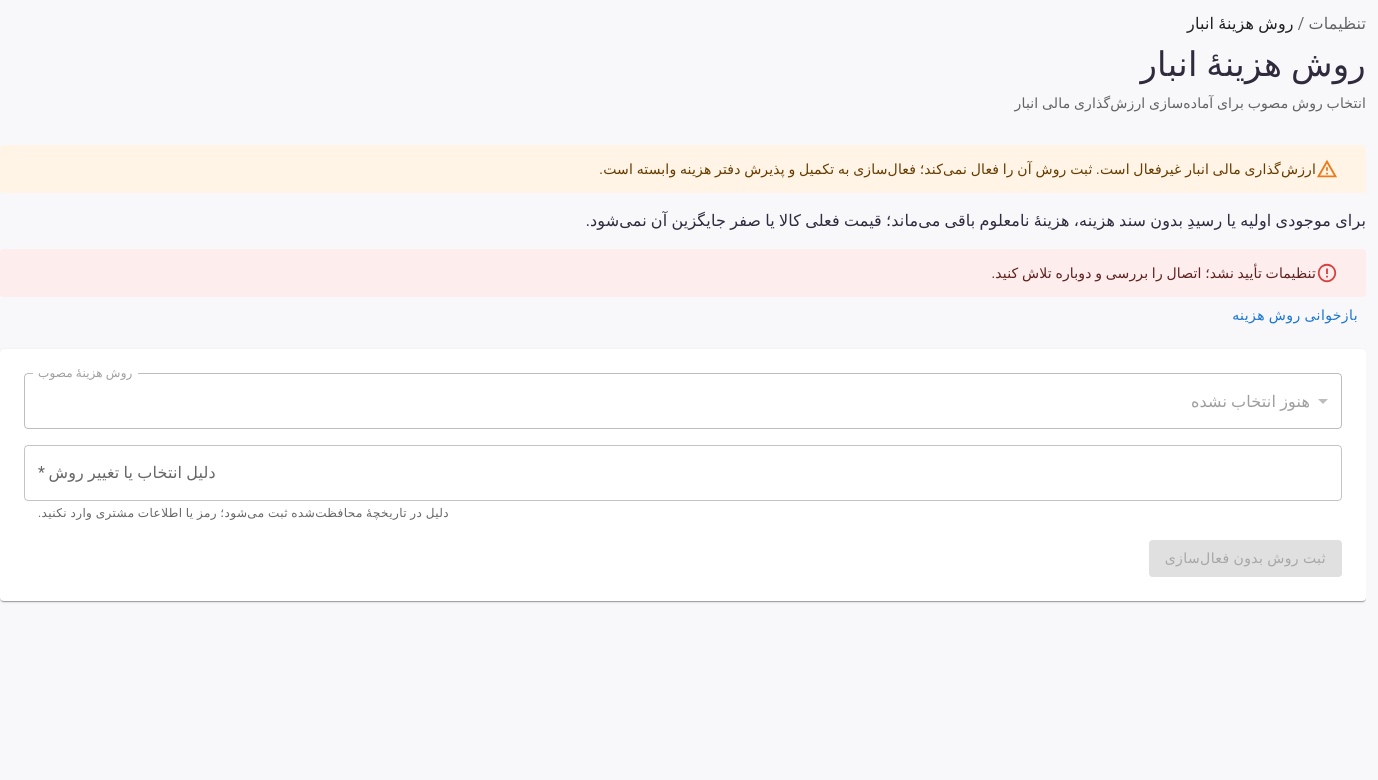
Admin inactive cost-method configuration › a failed read leaves saving disabled and recovers without exposing diagnostics
Expected: the text "تنظیمات تأیید نشد؛ اتصال را بررسی و دوباره تلاش کنید." is shown, [992,265,1316,281]
Expected: the button "ثبت روش بدون فعال‌سازی" is disabled, [1149,540,1342,577]
Click the button "بازخوانی روش هزینه" at [1295, 315], box [1224,297,1366,333]
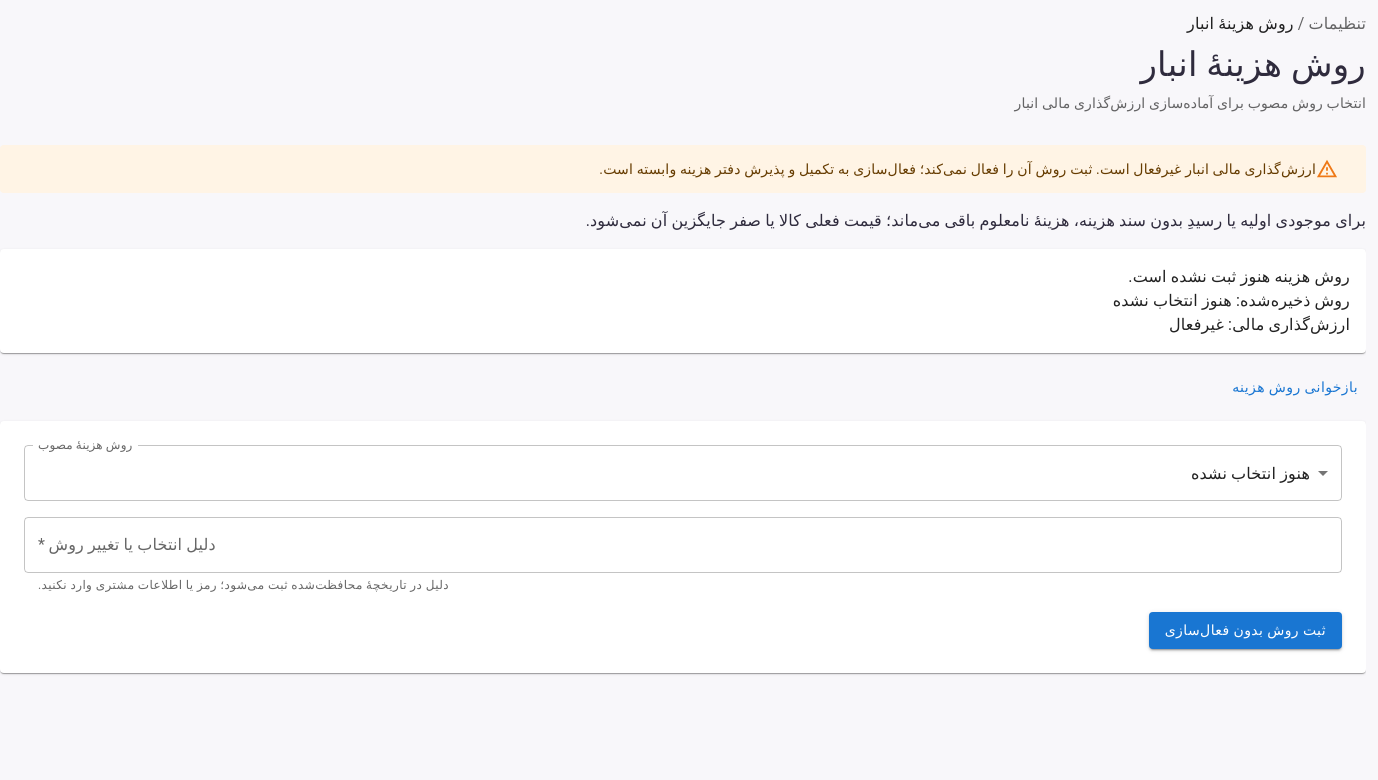
Now the text "روش هزینه هنوز ثبت نشده است." is shown, box [1128,267,1350,286]
Now the button "ثبت روش بدون فعال‌سازی" is enabled, box [1149,612,1342,649]
Now the text "تنظیمات تأیید نشد" is gone
